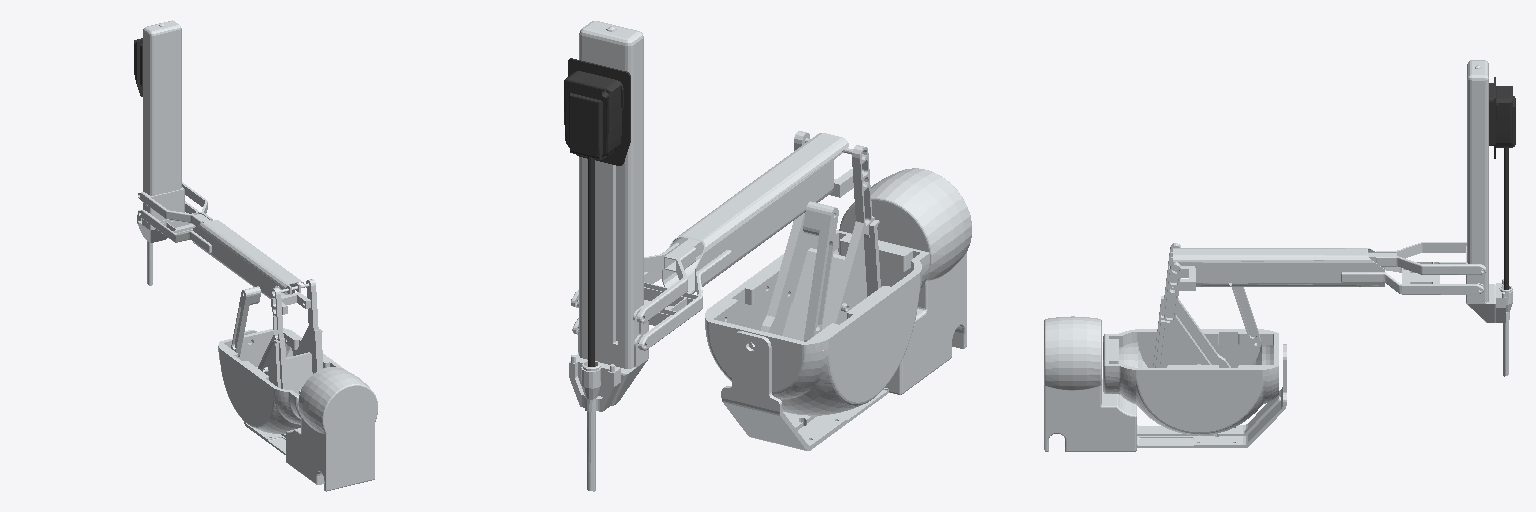
robot.urdf — psm_lnd:
<?xml version="1.0" encoding="utf-8"?>
<!-- ======================================================================= -->
<!-- Copyright 2024 MedCVR Lab                                               -->
<!-- ======================================================================= -->
<!-- This file contains the description of the dVRK PSM robot with LND tool. -->
<!-- LND400006 Tool -->

<!-- ================= -->
<!--       Joints      -->
<!-- ================= -->
<robot name="psm_lnd">

  <joint name="world_base_joint" type="fixed">
    <parent link="world"/>
    <child link="base_link"/>
    <origin rpy="0 0 0" xyz="0 0.4864 0.1524"/>
  </joint>

  <joint name="outer_yaw" type="revolute">
    <origin rpy="1.570796 -1.570796 0" xyz="0 0 0"/>
    <parent link="base_link"/>
    <child link="yaw_link"/>
    <axis xyz="0 0 1"/>
    <limit effort="1000" lower="-1.605" upper="1.5994" velocity="10"/>
  </joint>

  <joint name="outer_pitch" type="revolute">
    <origin rpy="-1.570796 -0.29073 0" xyz="0 0 0.516"/>
    <parent link="yaw_link"/>
    <child link="pitch_back_link"/>
    <axis xyz="0 0 1"/>
    <limit effort="1000" lower="-0.93556" upper="0.94249" velocity="10"/>
  </joint>

  <joint name="pitch_bottom_joint" type="revolute">
    <origin rpy="0 0 1.8615" xyz="0.15 0 0"/>
    <parent link="pitch_back_link"/>
    <child link="pitch_bottom_link"/>
    <axis xyz="0 0 1"/>
    <limit effort="1000" lower="-0.94249" upper="0.93556" velocity="10"/>
    <mimic joint="outer_pitch" multiplier="-1" offset="0"/>
  </joint>

  <joint name="pitch_end_joint" type="revolute">
    <origin rpy="0 0 0" xyz="0.516 0 0"/>
    <parent link="pitch_bottom_link"/>
    <child link="pitch_end_link"/>
    <axis xyz="0 0 1"/>
    <limit effort="1000" lower="-0.93556" upper="0.94249" velocity="10"/>
    <mimic joint="outer_pitch" multiplier="1" offset="0"/>
  </joint>

  <joint name="pitch_top_joint" type="revolute">
    <origin rpy="0 0 1.8615" xyz="0.18366 0.014121 0"/>
    <parent link="pitch_back_link"/>
    <child link="pitch_top_link"/>
    <axis xyz="0 0 1"/>
    <limit effort="1000" lower="-0.94249" upper="0.93556" velocity="10"/>
    <mimic joint="outer_pitch" multiplier="-1" offset="0"/>
  </joint>

  <joint name="pitch_front_joint" type="revolute">
    <origin rpy="-1.570796 -0.29073 0" xyz="0 0 0.42"/>
    <parent link="yaw_link"/>
    <child link="pitch_front_link"/>
    <axis xyz="0 0 1"/>
    <limit effort="1000" lower="-0.93556" upper="0.94249" velocity="10"/>
    <mimic joint="outer_pitch" multiplier="1" offset="0"/>
  </joint>

  <!--Virtual tool mount link-->
  <!--will be at l_rcc = 0.4318-->
  <joint name="tool_mount_joint" type="fixed">
    <origin rpy="1.570796 1.570796 3.14159" xyz="0.043 -0.28809 0"/>
    <parent link="pitch_end_link"/>
    <child link="tool_mount_link"/>
  </joint>

  <joint name="main_insertion" type="prismatic">
    <origin rpy="0 0 0" xyz="0 0 0"/>
    <parent link="tool_mount_link"/>
    <child link="main_insertion_link"/>
    <axis xyz="0 0 1"/>
    <limit effort="1000" lower="0" upper="0.24" velocity="1"/>
  </joint>

  <joint name="tool_roll" type="revolute">
    <origin rpy="0 0 -1.5708" xyz="0 0 0.4162"/>
    <parent link="main_insertion_link"/>
    <child link="tool_roll_link"/>
    <axis xyz="0 0 1"/>
    <limit effort="1000" lower="-3.14159" upper="3.14159" velocity="10"/>
  </joint>

  <joint name="tool_pitch" type="revolute">
    <origin rpy="1.5708 -1.5708 0" xyz="0 0 0"/>
    <parent link="tool_roll_link"/>
    <child link="tool_pitch_link"/>
    <axis xyz="0 0 1"/>
    <limit effort="1000" lower="-1.5708" upper="1.5708" velocity="10"/>
  </joint>

  <joint name="tool_yaw" type="revolute">
    <origin rpy="-1.5708 1.5708 0" xyz="0.0091 0 0"/>
    <parent link="tool_pitch_link"/>
    <child link="tool_yaw_link"/>
    <axis xyz="0 0 1"/>
    <limit effort="1000" lower="-1.5708" upper="1.5708" velocity="10"/>
  </joint>

  <joint name="tool_gripper1_joint" type="revolute">
    <origin rpy="0 0 0" xyz="0 0 0"/>
    <parent link="tool_yaw_link"/>
    <child link="tool_gripper1_link"/>
    <axis xyz="0 0 1"/>
    <mimic joint="jaw" multiplier="-1" offset="0"/>
    <limit effort="0" lower="-1" upper="0" velocity="0"/>
  </joint>

  <joint name="jaw" type="revolute">
    <origin rpy="0 0 0" xyz="0 0 0"/>
    <parent link="tool_yaw_link"/>
    <child link="tool_gripper2_link"/>
    <axis xyz="0 0 1"/>
    <limit effort="0" lower="0" upper="1" velocity="0"/>
  </joint>

  <joint name="tool_tip_joint" type="fixed">
    <origin rpy="1.5708 1.5708 0" xyz="0 -0.0102 0"/>
    <parent link="tool_yaw_link"/>
    <child link="tool_tip"/>
  </joint>

  <!-- ================= -->
  <!--       Links       -->
  <!-- ================= -->

  <link name="world"/>

  <link name="base_link">
    <inertial>
      <origin rpy="0 0 0" xyz="0 -0.17016 -0.085607"/>
      <mass value="2.0161"/>
      <inertia ixx="0.03342853" ixy="0.0094252" ixz="-0.00334012" iyy="0" iyz="0" izz="0.02897334"/>
    </inertial>
    <visual>
      <origin rpy="0 0 0" xyz="0 -0.4864 0"/>
      <geometry>
        <mesh filename="package://meshes/obj/base_link.obj"/>
      </geometry>
      <material name="">
        <color rgba="0.89804 0.91765 0.92941 1"/>
      </material>
    </visual>
  </link>

  <link name="yaw_link">
    <inertial>
      <origin rpy="0 0 0" xyz="-0.038769 0 0.041596"/>
      <mass value="1.4705"/>
      <inertia ixx="0.01814321" ixy="0.0000043" ixz="0.00000728" iyy="0.0157145" iyz="-0.00048589" izz="0.00824930"/>
    </inertial>
    <visual>
      <origin rpy="0 0 0" xyz="0 0 0.4864"/>
      <geometry>
        <mesh filename="package://meshes/obj/yaw_link.obj"/>
      </geometry>
      <material name="">
        <color rgba="0.89804 0.91765 0.92941 1"/>
      </material>
    </visual>
  </link>

  <link name="pitch_back_link">
    <inertial>
      <origin rpy="0 0 0" xyz="-0.011651 -0.036241 0"/>
      <mass value="0.98494"/>
      <inertia ixx="0.00202417" ixy="0.00047511" ixz="0.00000043" iyy="0.00564963" iyz="0.00000129" izz="0.00564716"/>
    </inertial>
    <visual>
      <origin rpy="0 0 0" xyz="0 0 0"/>
      <geometry>
        <mesh filename="package://meshes/obj/pitch_back_link.obj"/>
      </geometry>
      <material name="">
        <color rgba="0.89804 0.91765 0.92941 1"/>
      </material>
    </visual>
  </link>

  <link name="pitch_bottom_link">
    <inertial>
      <origin rpy="0 0 0" xyz="0.25683 -0.010348 0"/>
      <mass value="0.44569"/>
      <inertia ixx="0.00045979" ixy="-0.00031801" ixz="0.00000003" iyy="0.01127103" iyz="-0.00000040" izz="0.01110239"/>
    </inertial>
    <visual>
      <origin rpy="0 0 0" xyz="0 0 0"/>
      <geometry>
        <mesh filename="package://meshes/obj/pitch_bottom_link.obj"/>
      </geometry>
      <material name="">
        <color rgba="0.89804 0.91765 0.92941 1"/>
      </material>
    </visual>
  </link>

  <link name="pitch_end_link">
    <inertial>
      <origin rpy="0 0 0" xyz="-0.0019293 -0.13613 0"/>
      <mass value="0.355"/>
      <inertia ixx="0.03784466" ixy="-0.00123970" ixz="0.00000002" iyy="0.00156905" iyz="0" izz="0.03227453"/>
    </inertial>
    <visual>
      <origin rpy="0 0 0" xyz="0 0 0"/>
      <geometry>
        <mesh filename="package://meshes/obj/pitch_end_link.obj"/>
      </geometry>
      <material name="">
        <color rgba="0.89804 0.91765 0.92941 1"/>
      </material>
    </visual>
  </link>

  <link name="pitch_top_link">
    <inertial>
      <origin rpy="0 0 0" xyz="0.31246 -0.00056566 0"/>
      <mass value="0.17841"/>
      <inertia ixx="0.00014989" ixy="0.00001128" ixz="0" iyy="0.00463460" iyz="0" izz="0.00449516"/>
    </inertial>
    <visual>
      <origin rpy="0 0 0" xyz="0 0 0"/>
      <geometry>
        <mesh filename="package://meshes/obj/pitch_top_link.obj"/>
      </geometry>
      <material name="">
        <color rgba="0.89804 0.91765 0.92941 1"/>
      </material>
    </visual>
  </link>

  <link name="pitch_front_link">
    <inertial>
      <origin rpy="0 0 0" xyz="0.096269 0 0.047551"/>
      <mass value="0.074425"/>
      <inertia ixx="0.00000876" ixy="0" ixz="-0.00001711" iyy="0.00022654" iyz="0" izz="0.00022322"/>
    </inertial>
    <visual>
      <origin rpy="0 0 0" xyz="0 0 0"/>
      <geometry>
        <mesh filename="package://meshes/obj/pitch_front_link.obj"/>
      </geometry>
      <material name="">
        <color rgba="0.89804 0.91765 0.92941 1"/>
      </material>
    </visual>
  </link>

  <link name="tool_mount_link"/>

  <link name="main_insertion_link">
    <inertial>
      <origin rpy="0 0 0" xyz="0.0040563 -0.00010934 0.0098616"/>
      <mass value="0.22491"/>
      <inertia ixx="0.01" ixy="-0.00001" ixz="0.00001" iyy="0.001" iyz="0.00001" izz="0.001"/>
    </inertial>
    <visual>
      <origin rpy="0 0 1.5708" xyz="0 0 0"/>
      <geometry>
        <mesh filename="package://meshes/obj/tool_main_insertion_link.obj"/>
      </geometry>
      <material name="">
        <color rgba="0.3 0.3 0.3 1.0"/>
      </material>
    </visual>
    <collision name="main_insertion_link_collision_0">
      <origin rpy="0 0 1.5708" xyz="0 0 0"/>
      <geometry>
        <mesh filename="package://meshes/obj/tool_main_insertion_link_collision_0.obj"/>
      </geometry>
    </collision>
    <collision name="main_insertion_link_collision_1">
      <origin rpy="0 0 1.5708" xyz="0 0 0"/>
      <geometry>
        <mesh filename="package://meshes/obj/tool_main_insertion_link_collision_1.obj"/>
      </geometry>
    </collision>
  </link>

  <link name="tool_roll_link">
    <inertial>
      <origin rpy="0 0 0" xyz="0 0 -0.0058234"/>
      <mass value="0.00033225"/>
      <inertia ixx="0.001" ixy="0.00001" ixz="0.00001" iyy="0.001" iyz="0.00001" izz="0.001"/>
    </inertial>
    <visual>
      <origin rpy="0 0 0" xyz="0 0 0"/>
      <geometry>
        <mesh filename="package://meshes/obj/lnd_roll_link.obj"/>
      </geometry>
      <material name="">
        <color rgba="0.79608 0.82353 0.93725 1"/>
      </material>
    </visual>
    <collision name="tool_roll_link_collision_0">
      <origin rpy="0 0 0" xyz="0 0 0"/>
      <geometry>
        <mesh filename="package://meshes/obj/lnd_roll_link_collision_0.obj"/>
      </geometry>
    </collision>
    <collision name="tool_roll_link_collision_1">
      <origin rpy="0 0 0" xyz="0 0 0"/>
      <geometry>
        <mesh filename="package://meshes/obj/lnd_roll_link_collision_1.obj"/>
      </geometry>
    </collision>
    <collision name="tool_roll_link_collision_2">
      <origin rpy="0 0 0" xyz="0 0 0"/>
      <geometry>
        <mesh filename="package://meshes/obj/lnd_roll_link_collision_2.obj"/>
      </geometry>
    </collision>
  </link>

  <link name="tool_pitch_link">
    <inertial>
      <origin rpy="0 0 0" xyz="0.0035763 0 0"/>
      <mass value="0.00025784"/>
      <inertia ixx="0.001" ixy="0.00001" ixz="0.00001" iyy="0.001" iyz="0.00001" izz="0.001"/>
    </inertial>
    <visual>
      <origin rpy="0 0 0" xyz="0 0 0"/>
      <geometry>
        <mesh filename="package://meshes/obj/lnd_pitch_link.obj"/>
      </geometry>
      <material name="">
        <color rgba="0.79608 0.82353 0.93725 1"/>
      </material>
    </visual>
    <collision name="tool_pitch_link_collision_0">
      <origin rpy="0 0 0" xyz="0 0 0"/>
      <geometry>
        <mesh filename="package://meshes/obj/lnd_pitch_link_collision_0.obj"/>
      </geometry>
    </collision>
    <collision name="tool_pitch_link_collision_1">
      <origin rpy="0 0 0" xyz="0 0 0"/>
      <geometry>
        <mesh filename="package://meshes/obj/lnd_pitch_link_collision_1.obj"/>
      </geometry>
    </collision>
    <collision name="tool_pitch_link_collision_2">
      <origin rpy="0 0 0" xyz="0 0 0"/>
      <geometry>
        <mesh filename="package://meshes/obj/lnd_pitch_link_collision_2.obj"/>
      </geometry>
    </collision>
  </link>

  <link name="tool_yaw_link">
    <inertial>
      <origin rpy="0 0 0" xyz="0 0 0"/>
      <mass value="0.012491"/>
      <inertia ixx="0.001" ixy="0.00001" ixz="0.00001" iyy="0.001" iyz="0.00001" izz="0.001"/>
    </inertial>
    <visual>
      <origin rpy="0 0 0" xyz="0 0 0"/>
      <geometry>
        <mesh filename="package://meshes/obj/lnd_yaw_link.obj"/>
      </geometry>
      <material name="">
        <color rgba="0.79608 0.82353 0.93725 1"/>
      </material>
    </visual>
  </link>

  <link name="tool_gripper1_link">
    <inertial>
      <origin rpy="0 0 0" xyz="0.00019605 0.001435 -0.00088478"/>
      <mass value="0.010491"/>
      <inertia ixx="0.001" ixy="0.00001" ixz="0.00001" iyy="0.001" iyz="0.00001" izz="0.001"/>
    </inertial>
    <visual>
      <origin rpy="0 0 0" xyz="0 0 0"/>
      <geometry>
        <mesh filename="package://meshes/obj/lnd_gripper_link.obj"/>
      </geometry>
      <material name="">
        <color rgba="0.79608 0.82353 0.93725 1"/>
      </material>
    </visual>
    <collision name="tool_gripper1_link_collision_0">
      <origin rpy="0 0 0" xyz="0 0 0"/>
      <geometry>
        <mesh filename="package://meshes/obj/lnd_gripper_link_collision_0.obj"/>
      </geometry>
    </collision>
    <collision name="tool_gripper1_link_collision_1">
      <origin rpy="0 0 0" xyz="0 0 0"/>
      <geometry>
        <mesh filename="package://meshes/obj/lnd_gripper_link_collision_1.obj"/>
      </geometry>
    </collision>
  </link>

  <link name="tool_gripper2_link">
    <inertial>
      <origin rpy="0 0 0" xyz="-0.00019605 0.001435 0.00088478"/>
      <mass value="0.010491"/>
      <inertia ixx="0.001" ixy="0.00001" ixz="0.00001" iyy="0.001" iyz="0.00001" izz="0.001"/>
    </inertial>
    <visual>
      <origin rpy="0 3.1416 0" xyz="0 0 0"/>
      <geometry>
        <mesh filename="package://meshes/obj/lnd_gripper_link.obj"/>
      </geometry>
      <material name="">
        <color rgba="0.79608 0.82353 0.93725 1"/>
      </material>
    </visual>
    <collision name="tool_gripper2_link_collision_0">
      <origin rpy="0 3.1416 0" xyz="0 0 0"/>
      <geometry>
        <mesh filename="package://meshes/obj/lnd_gripper_link_collision_0.obj"/>
      </geometry>
    </collision>
    <collision name="tool_gripper2_link_collision_1">
      <origin rpy="0 3.1416 0" xyz="0 0 0"/>
      <geometry>
        <mesh filename="package://meshes/obj/lnd_gripper_link_collision_1.obj"/>
      </geometry>
    </collision>
  </link>

  <!-- Virtual Tip Link for Kinematics Verification -->
  <link name="tool_tip"/>

  <disable_collision link1="main_insertion_link" link2="tool_roll_link"/>
  <disable_collision link1="tool_roll_link" link2="tool_pitch_link"/>
  <disable_collision link1="tool_pitch_link" link2="tool_gripper1_link"/>
  <disable_collision link1="tool_pitch_link" link2="tool_gripper2_link"/>
  <disable_collision link1="tool_gripper1_link" link2="tool_gripper2_link"/>

</robot>

--- Facts derived from the render (not from the file) ---
3 views of the same robot in one strip: view 1: azimuth 30°, elevation 25°; view 2: azimuth 150°, elevation 25°; view 3: azimuth 270°, elevation 25° (orthographic).
Model psm_lnd with 16 links and 15 joints (11 revolute, 1 prismatic, 3 fixed), rooted at world, posed every joint at zero.
Visible links, largest first — view 1: base_link, pitch_end_link, yaw_link, pitch_bottom_link, pitch_back_link, pitch_top_link, pitch_front_link; view 2: base_link, pitch_end_link, yaw_link, pitch_bottom_link, pitch_back_link, main_insertion_link, pitch_front_link, pitch_top_link; view 3: yaw_link, base_link, pitch_bottom_link, pitch_end_link, pitch_back_link, main_insertion_link, pitch_top_link, pitch_front_link.
Link boxes in pixels (x1,y1,x2,y2): base_link: (244, 330, 377, 491); pitch_end_link: (137, 20, 184, 285); yaw_link: (218, 328, 346, 433); pitch_bottom_link: (139, 201, 310, 314); pitch_back_link: (258, 279, 322, 394); pitch_top_link: (138, 182, 300, 294); pitch_front_link: (231, 286, 260, 356); base_link: (721, 168, 971, 450); pitch_end_link: (569, 21, 648, 491); yaw_link: (705, 230, 929, 415); pitch_bottom_link: (572, 133, 853, 350); pitch_back_link: (761, 131, 880, 340); main_insertion_link: (564, 58, 630, 366); pitch_front_link: (803, 201, 838, 341); pitch_top_link: (571, 152, 842, 323); yaw_link: (1103, 329, 1278, 435); base_link: (1044, 316, 1286, 451); pitch_bottom_link: (1169, 248, 1483, 294); pitch_end_link: (1466, 60, 1512, 376); pitch_back_link: (1153, 243, 1230, 367); main_insertion_link: (1489, 77, 1515, 289); pitch_top_link: (1171, 242, 1485, 274); pitch_front_link: (1232, 287, 1261, 348).
Size in the robot's own frame: 0.1625 by 0.7915 by 0.6911 metres.
Meshes: 12 distinct files referenced, 12 mesh visuals loaded (11 OBJ); not drawn: 1 (reference not matched to a file when rendering).
